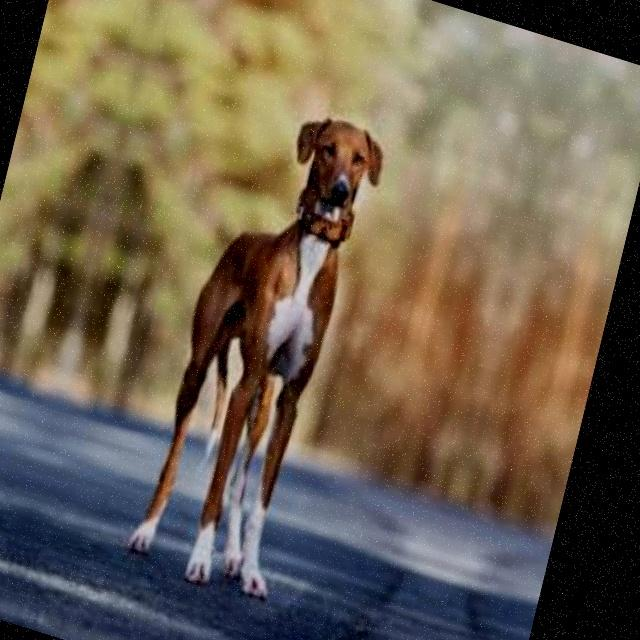dog: (85, 65, 419, 627), (0, 15, 83, 522)
